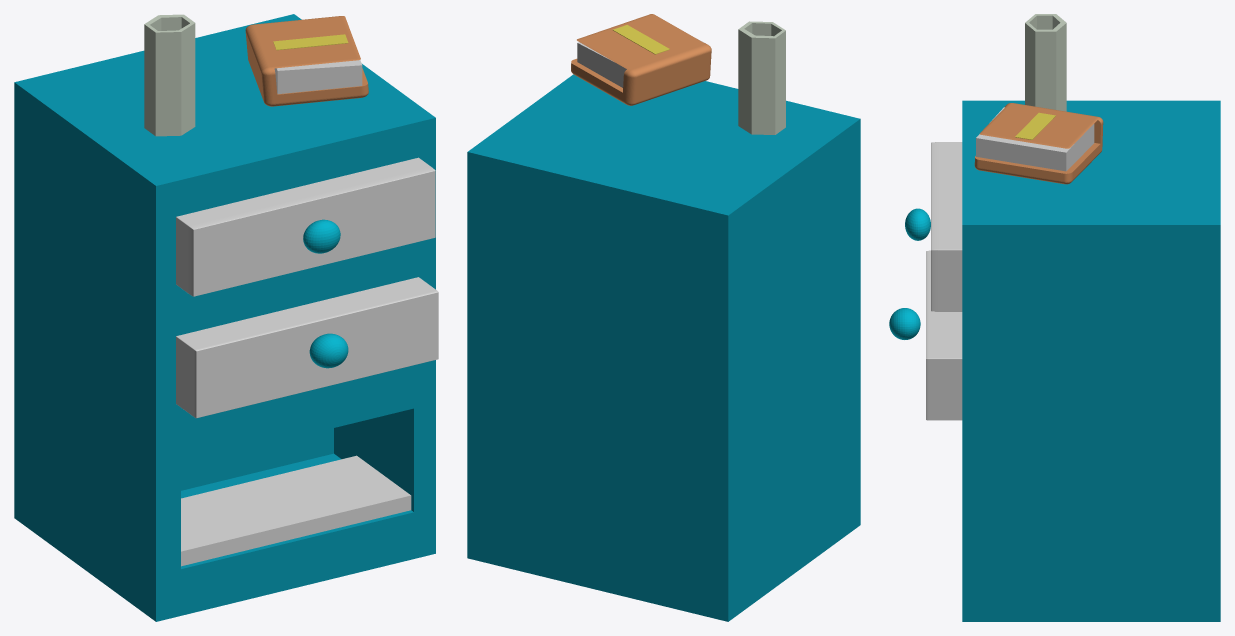
The model's file is Amazing Kasi.glb.
3 renders of one model, left to right at view 1: azimuth 30°, elevation 25°; view 2: azimuth 150°, elevation 25°; view 3: azimuth 270°, elevation 25°, orthographic. The views are drawn at different scales.
Parts seen in each view (by area): view 1: Mesh_Mesh_head_geo.001_lambert2SG.001; view 2: Mesh_Mesh_head_geo.001_lambert2SG.001; view 3: Mesh_Mesh_head_geo.001_lambert2SG.001.
Part boxes in pixels (bbox=[...]): Mesh_Mesh_head_geo.001_lambert2SG.001: bbox=[14, 14, 438, 621]; Mesh_Mesh_head_geo.001_lambert2SG.001: bbox=[467, 14, 860, 621]; Mesh_Mesh_head_geo.001_lambert2SG.001: bbox=[889, 14, 1220, 621].
Bounding box in the file's own units: 56.39 × 106 × 63.5.
